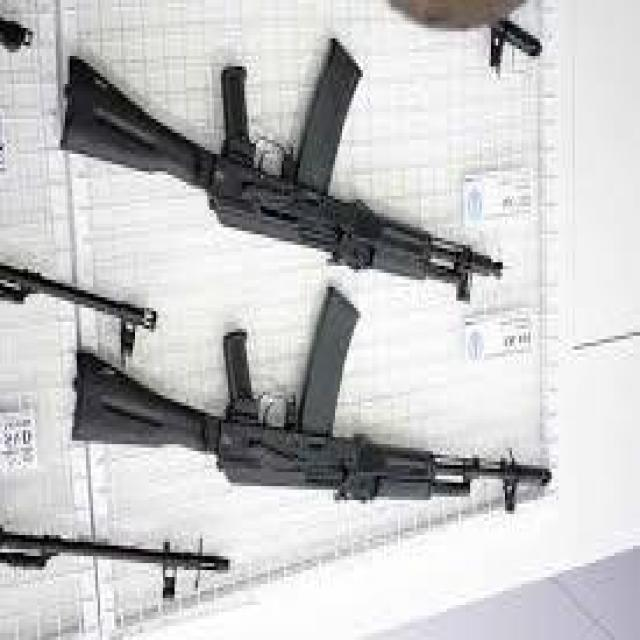weapon: (59, 35, 506, 307), (70, 283, 554, 516)
